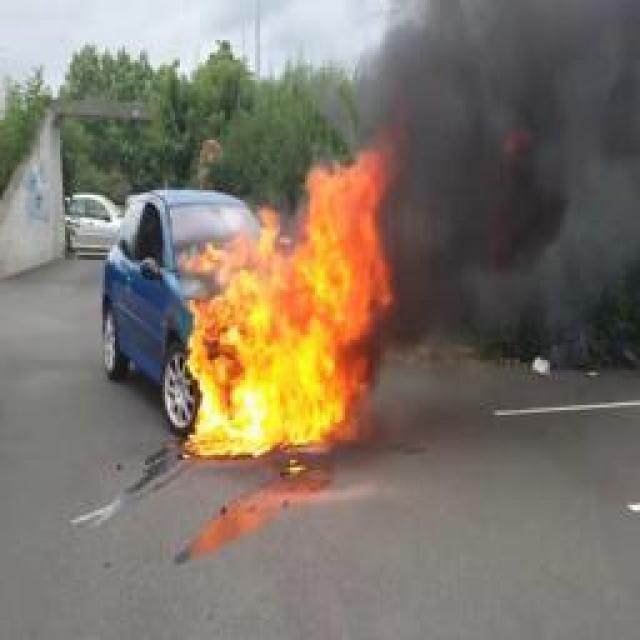Fire: (185, 136, 398, 459)
